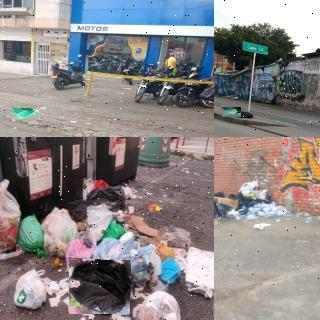Garbage: (69, 259, 131, 315), (42, 205, 77, 256), (0, 177, 19, 255), (12, 267, 46, 309), (132, 290, 179, 320), (17, 214, 46, 258), (86, 185, 126, 208), (66, 237, 92, 265), (11, 107, 39, 120), (222, 107, 241, 117), (237, 109, 254, 118)
